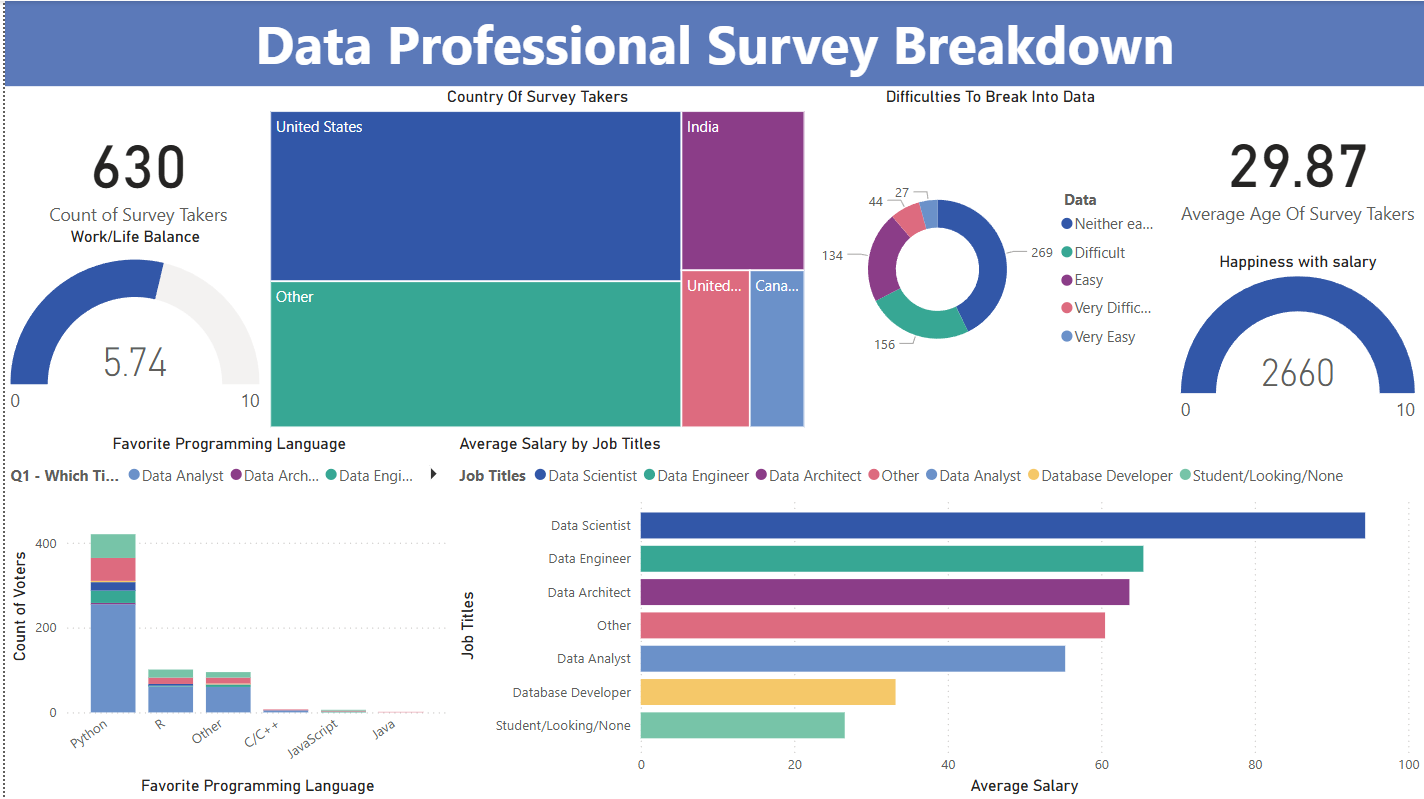

This screenshot's page, from the dashboard's own definition file:
{"tool":"powerbi","page":{"name":"Page 1","canvas":[1280,720],"ordinal":0},"visuals":[{"type":"textbox","box":[0,0,1280.3,77],"z":0},{"type":"card","fields":{"Values":["Count(Data Professional Survey.Unique ID)"]},"box":[5.6,78.4,229.5,149.7],"z":1000},{"type":"card","fields":{"Values":["Avg(Data Professional Survey.Q10 - Current Age)"]},"box":[1051.7,77.2,228.6,149.8],"z":2000},{"type":"barChart","title":"Average Salary by Job Titles","fields":{"Category":["Data Professional Survey.Q1 - Which Title Best Fits your Current Role?.1"],"Y":["Avg(Data Professional Survey.Average Salary)"],"Series":["Data Professional Survey.Q1 - Which Title Best Fits your Current Role?.1"]},"box":[404.4,390.4,875.9,330.2],"z":3000},{"type":"columnChart","title":"Favorite Programming Language","fields":{"Category":["Data Professional Survey.Q5 - Favorite Programming Language.1"],"Y":["CountNonNull(Data Professional Survey.Unique ID)"],"Series":["Data Professional Survey.Q1 - Which Title Best Fits your Current Role?.1"]},"box":[0,390.4,404.4,330.2],"z":4000},{"type":"treemap","title":"Country Of Survey Takers","fields":{"Group":["Data Professional Survey.Q11 - Which Country do you live in?.1"],"Values":["CountNonNull(Data Professional Survey.Q11 - Which Country do you live in?.1)"]},"box":[234.8,78.3,491.6,311.8],"z":5000},{"type":"gauge","title":"Happiness with salary","fields":{"Y":["Sum(Data Professional Survey.Q6 - How Happy are you in your Current Position with the following? (Salary))"],"MinValue":["Min(Data Professional Survey.Q6 - How Happy are you in your Current Position with the following? (Salary))"],"MaxValue":["Max(Data Professional Survey.Q6 - How Happy are you in your Current Position with the following? (Salary))"]},"box":[1051.6,226.2,228.7,163.9],"z":6000},{"type":"gauge","title":" Work/Life Balance","fields":{"Y":["Avg(Data Professional Survey.Q6 - How Happy are you in your Current Position with the following? (Work/Life Balance))"],"MinValue":["Min(Data Professional Survey.Q6 - How Happy are you in your Current Position with the following? (Work/Life Balance))1"],"MaxValue":["Max(Data Professional Survey.Q6 - How Happy are you in your Current Position with the following? (Work/Life Balance))"]},"box":[0,204.2,234.8,185.9],"z":7000},{"type":"donutChart","title":"Difficulties To Break Into Data","fields":{"Category":["Data Professional Survey.Q7 - How difficult was it for you to break into Data?"],"Y":["CountNonNull(Data Professional Survey.Q7 - How difficult was it for you to break into Data?)"]},"box":[726.4,78.3,325.3,311.8],"z":7001}]}

Visuals, with their boxes in screenshot pixels (x1, y1, x2, y2), scaled from the page's 1280x720 canvas onto the 1424x799 screenshot:
textbox: locate(0, 0, 1423, 85)
card - Count(Data Professional Survey.Unique ID): locate(6, 87, 262, 253)
card - Avg(Data Professional Survey.Q10 - Current Age): locate(1170, 86, 1423, 252)
"Average Salary by Job Titles" barChart: locate(450, 433, 1423, 798)
"Favorite Programming Language" columnChart: locate(0, 433, 450, 798)
"Country Of Survey Takers" treemap: locate(261, 87, 808, 433)
"Happiness with salary" gauge: locate(1170, 251, 1423, 433)
" Work/Life Balance" gauge: locate(0, 227, 261, 433)
"Difficulties To Break Into Data" donutChart: locate(808, 87, 1170, 433)
